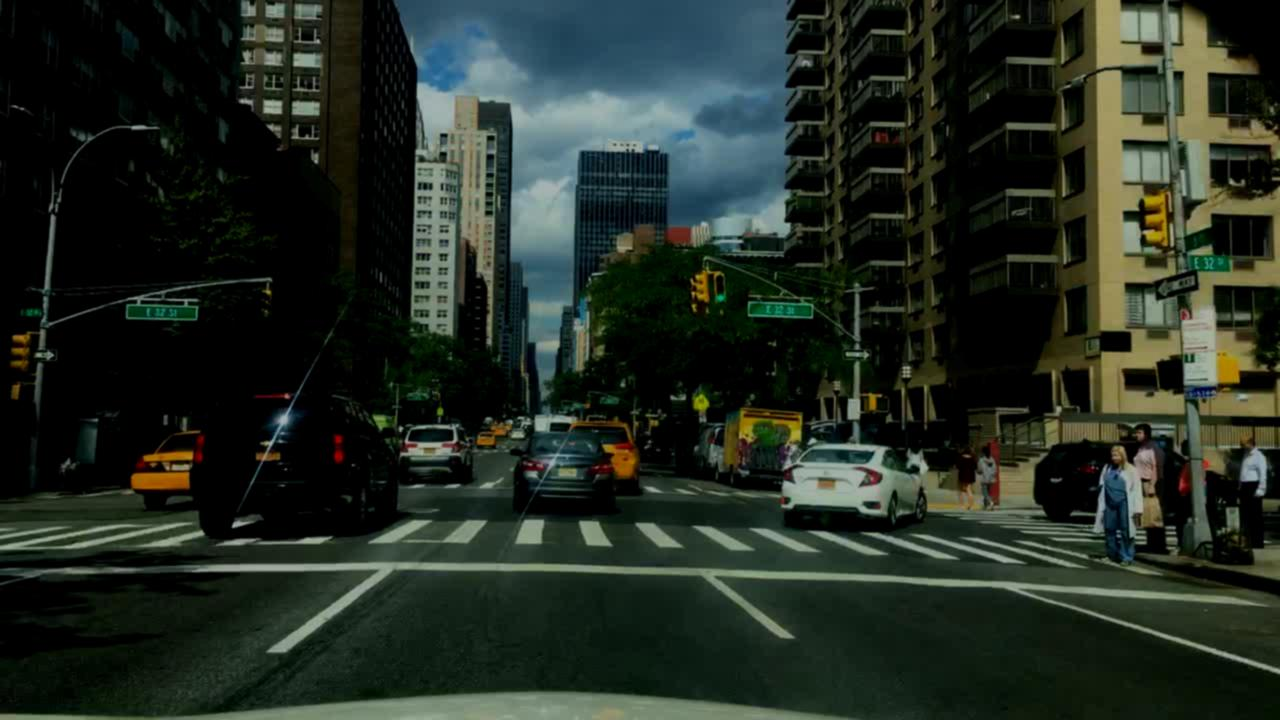chevrolet: (255, 435, 281, 449)
